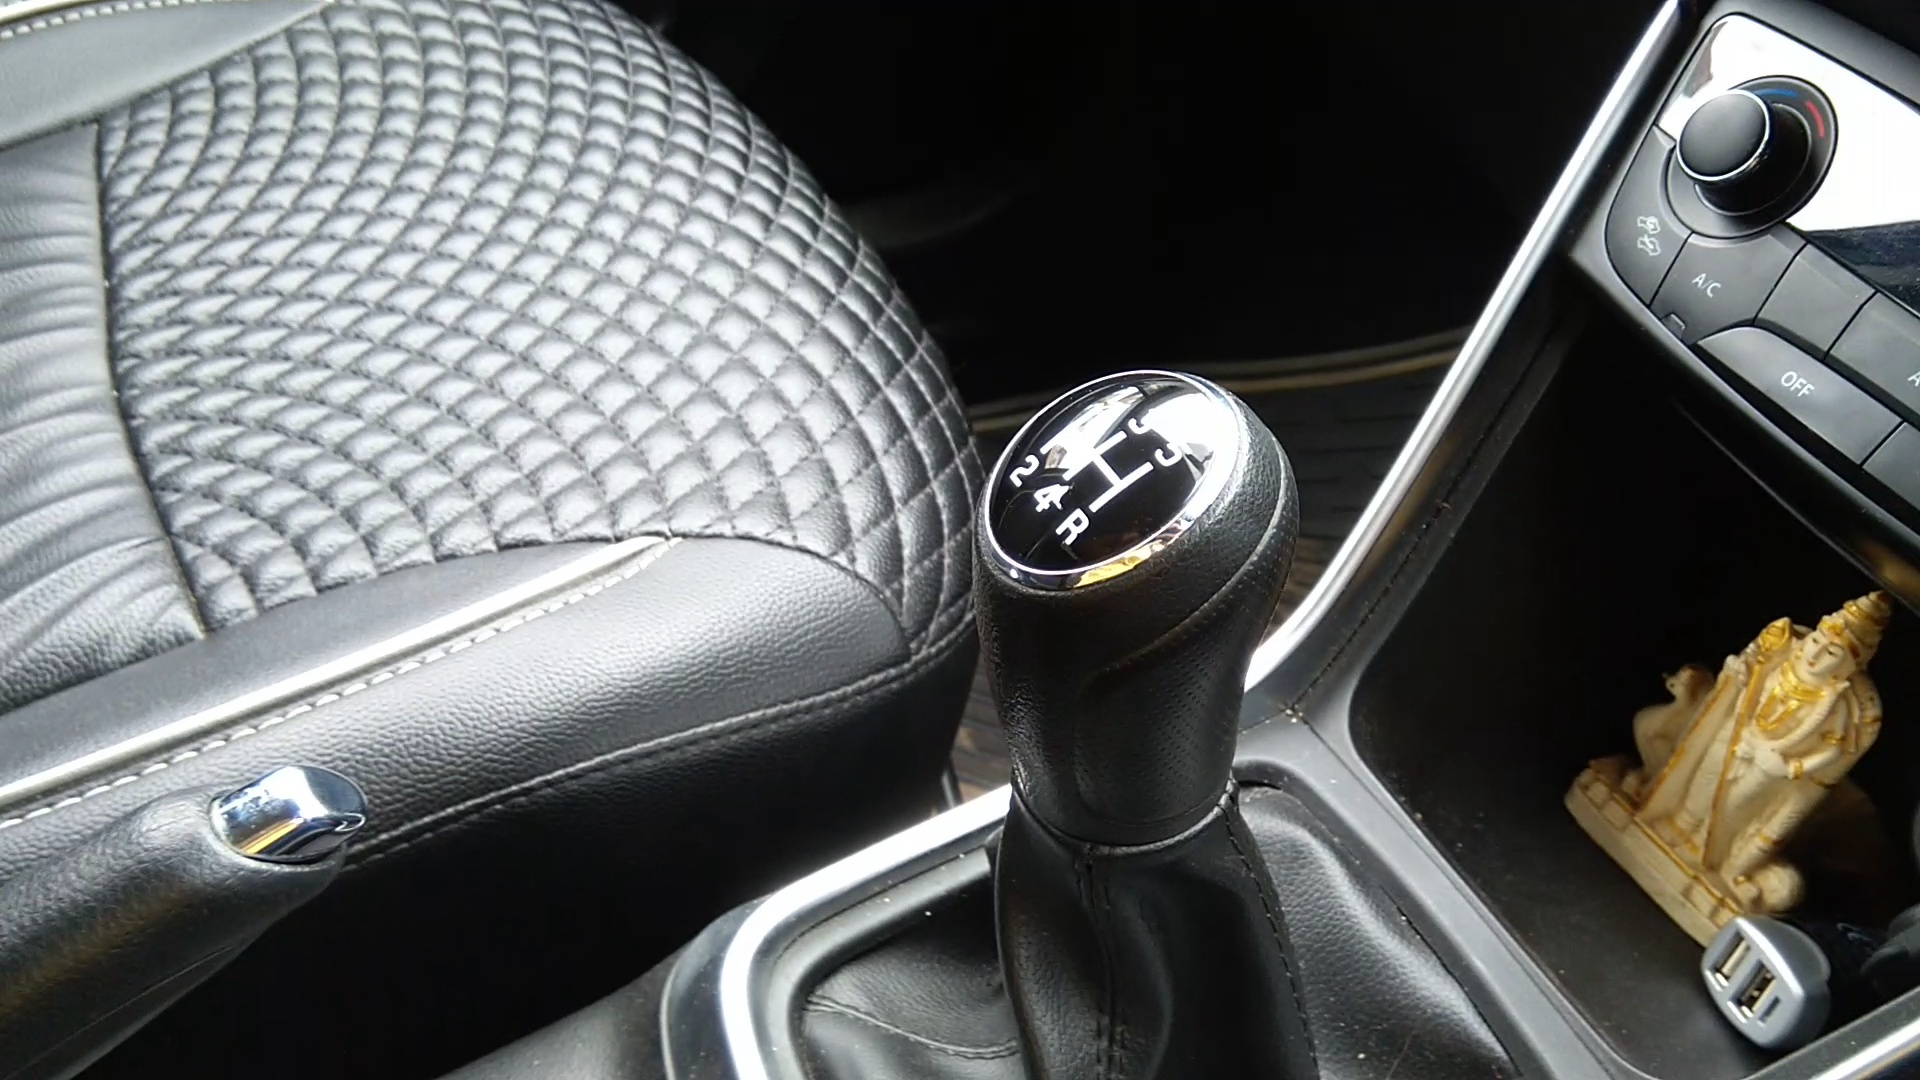manual_gear: (967, 360, 1311, 902)
